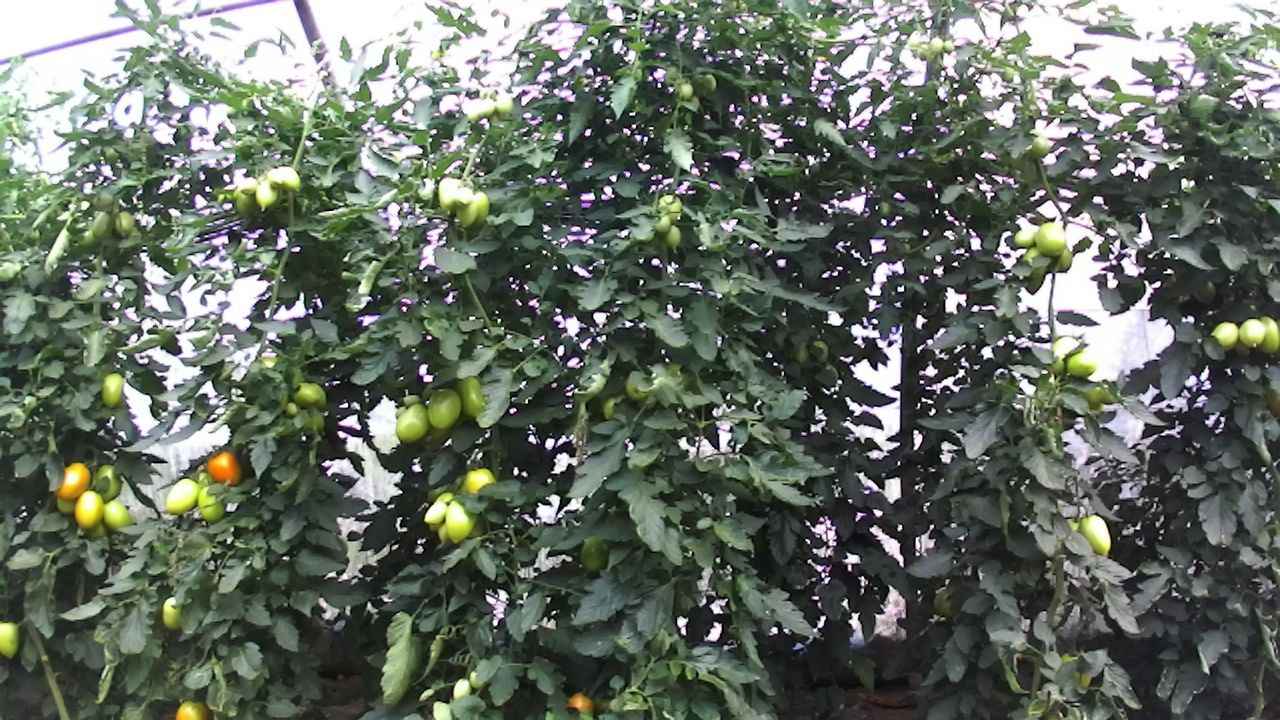tomato: (424, 384, 463, 433), (52, 460, 93, 506), (441, 499, 481, 546), (392, 402, 429, 445), (164, 475, 200, 518), (576, 529, 612, 572), (1076, 513, 1112, 555), (72, 487, 105, 530), (206, 449, 243, 486), (1033, 219, 1066, 259), (99, 368, 126, 415), (1253, 312, 1280, 359), (289, 378, 324, 411), (158, 593, 186, 633), (1061, 349, 1098, 378), (1210, 318, 1242, 351), (172, 693, 210, 720), (101, 499, 134, 530), (1237, 316, 1267, 348), (0, 620, 21, 663), (421, 497, 449, 528), (111, 208, 137, 238), (453, 185, 476, 208)
